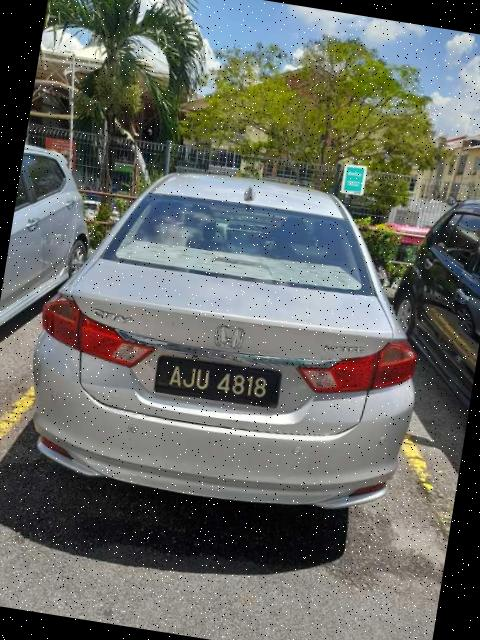License_Plate: (152, 350, 285, 411)
car: (16, 147, 447, 529)
